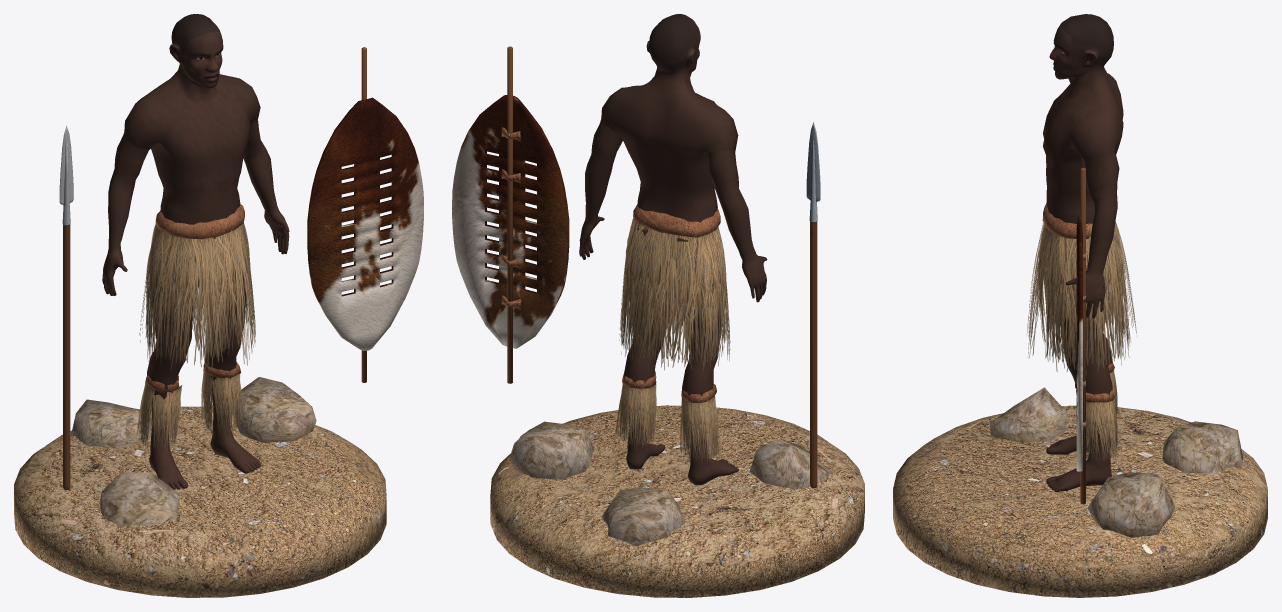
The picture shows the model from 3 angles, left to right: view 1: azimuth 30°, elevation 25°; view 2: azimuth 150°, elevation 25°; view 3: azimuth 270°, elevation 25°; orthographic projection.
Visible parts, largest first — view 1: Plataforma, ZuluLow, Escudo, Pollera, Piedras, Lanza, Cintas; view 2: Plataforma, ZuluLow, Escudo, Pollera, Piedras, Lanza, Cintas; view 3: Plataforma, ZuluLow, Pollera, Piedras, Escudo, Cintas.
Boxes of the visible parts, bbox=[...] form: Plataforma: bbox=[14, 406, 386, 597]; ZuluLow: bbox=[102, 14, 289, 489]; Escudo: bbox=[307, 47, 423, 382]; Pollera: bbox=[136, 222, 255, 453]; Piedras: bbox=[71, 377, 316, 527]; Lanza: bbox=[59, 126, 73, 489]; Cintas: bbox=[145, 204, 244, 392]; Plataforma: bbox=[490, 405, 864, 597]; ZuluLow: bbox=[579, 14, 767, 485]; Escudo: bbox=[452, 46, 569, 383]; Pollera: bbox=[615, 209, 730, 464]; Piedras: bbox=[510, 421, 831, 546]; Lanza: bbox=[806, 122, 820, 488]; Cintas: bbox=[622, 204, 720, 402]; Plataforma: bbox=[893, 405, 1267, 597]; ZuluLow: bbox=[1043, 14, 1123, 491]; Pollera: bbox=[1027, 221, 1136, 463]; Piedras: bbox=[989, 387, 1242, 537]; Escudo: bbox=[1076, 167, 1085, 504]; Cintas: bbox=[1042, 203, 1114, 402].
Bounding box in the file's own units: 1.53 × 1.9 × 1.28.
Materials: 8 (8 with a texture image).
